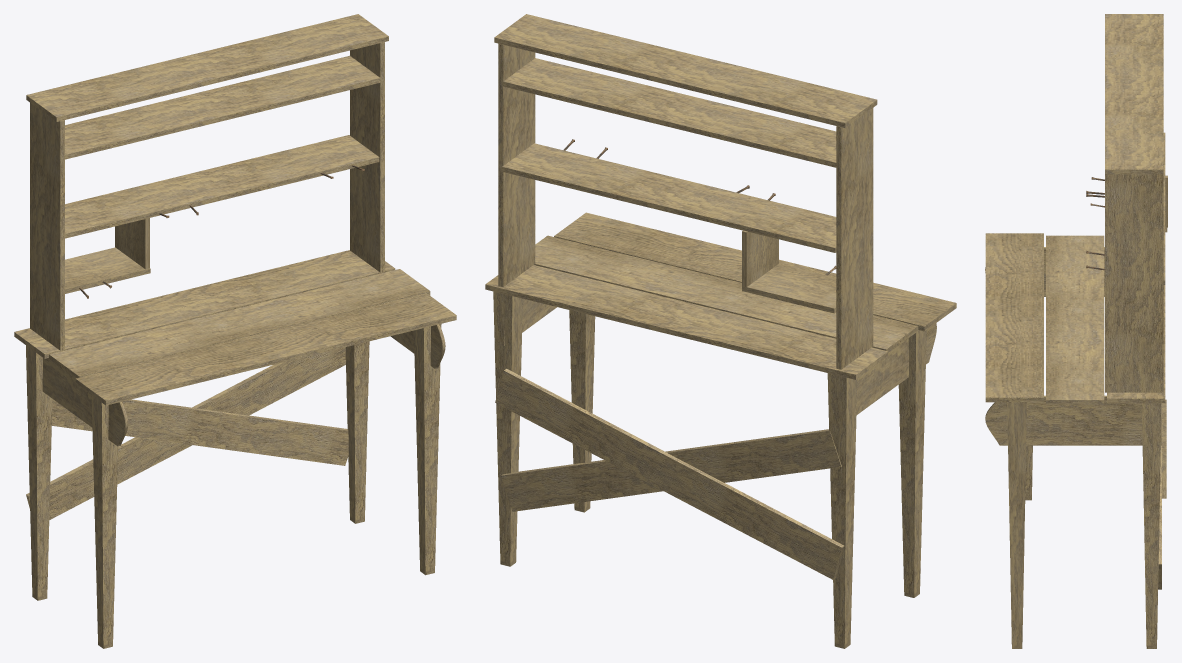
File: workbench.glb
The picture shows the model from 3 angles, left to right: view 1: azimuth 30°, elevation 25°; view 2: azimuth 150°, elevation 25°; view 3: azimuth 270°, elevation 25°; orthographic projection. The views are drawn at different scales.
Visible parts, largest first — view 1: Object; view 2: Object; view 3: Object.
Boxes of the visible parts, <box> form: Object: <box>14,14,456,648</box>; Object: <box>485,14,956,648</box>; Object: <box>985,14,1167,648</box>.
Bounding box in the file's own units: 1.95 × 2.63 × 0.9057.
3 materials, 3 textured.
